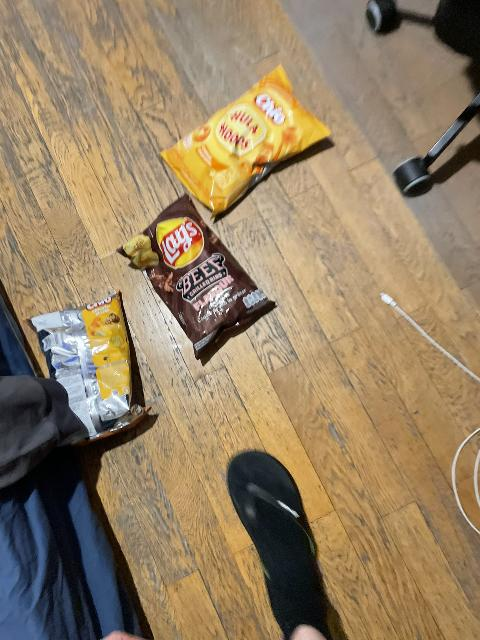Chio Cascaval 125g: (28, 303, 137, 438)
Chio Hula Hoops Cheese 70g: (159, 66, 331, 218)
Lays Beef Grilled Ribs 125g: (125, 193, 287, 347)
